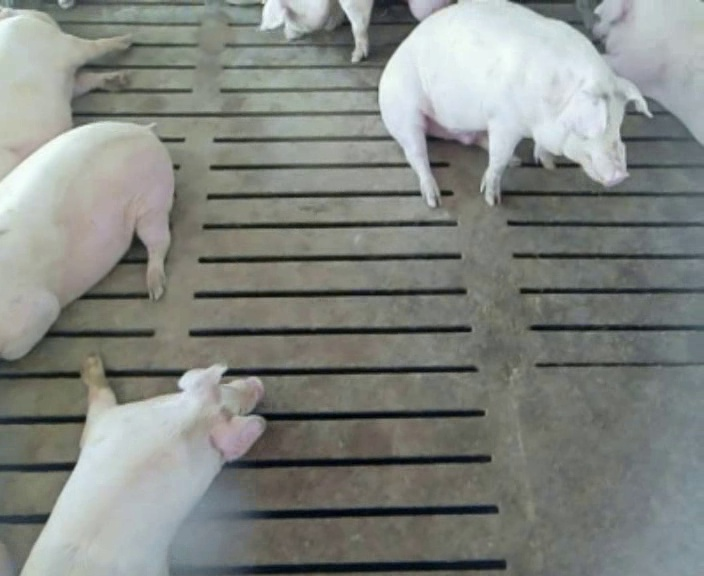pig: (379, 2, 650, 206), (22, 356, 264, 573), (0, 122, 173, 359), (0, 9, 130, 179), (593, 2, 703, 144)
